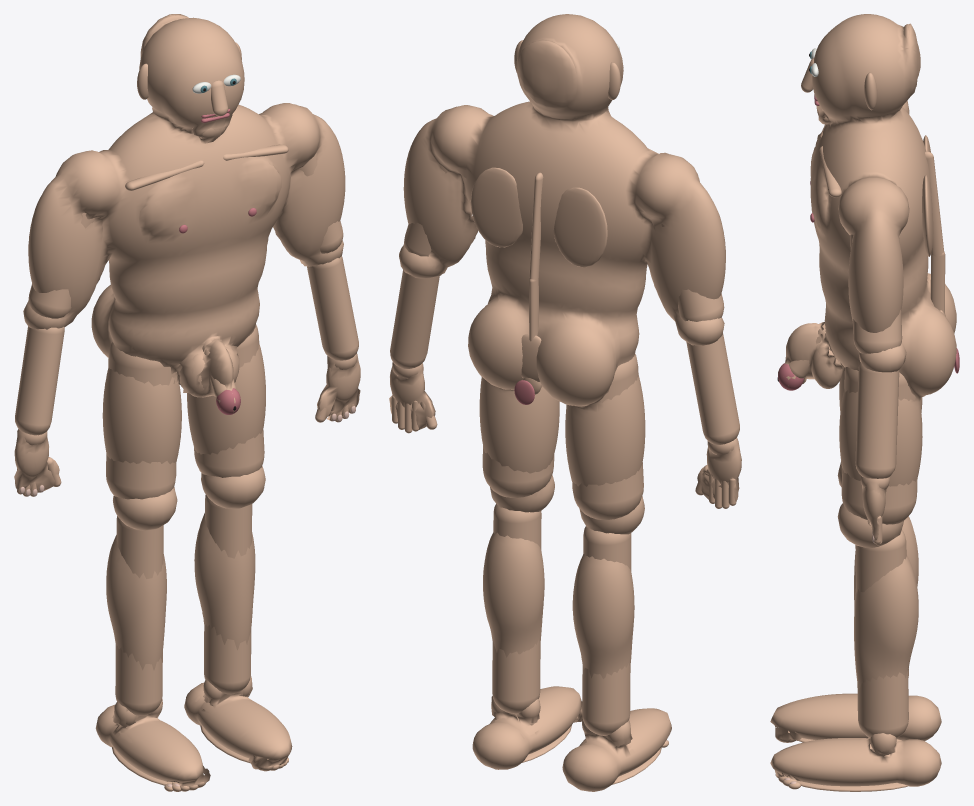
File: body-senior-maennlich-v2.glb
3 views of the same model, side by side, from view 1: azimuth 30°, elevation 25°; view 2: azimuth 150°, elevation 25°; view 3: azimuth 270°, elevation 25° (orthographic).
Visible parts, largest first — view 1: zone__visual-surface-body-senior-maennlich, zone__surface-lower-leg-left, zone__surface-lower-leg-right, zone__surface-forearm-left, zone__surface-thigh-left, zone__surface-forearm-right, zone__surface-thigh-right, zone__surface-upper-arm-left, zone__surface-upper-arm-right, zone__surface-clavicle-left; view 2: zone__visual-surface-body-senior-maennlich, zone__surface-lower-leg-right, zone__surface-lower-leg-left, zone__surface-forearm-left, zone__surface-forearm-right, zone__surface-scapula-left, zone__surface-scapula-right, zone__surface-thigh-left, zone__surface-thigh-right, zone__surface-upper-arm-left, zone__surface-thoracic-spine, zone__surface-upper-arm-right (+1 smaller); view 3: zone__visual-surface-body-senior-maennlich, zone__surface-lower-leg-right, zone__surface-forearm-right, zone__surface-thigh-right, zone__surface-upper-arm-right, zone__surface-thoracic-spine, zone__surface-lumbar-spine, zone__surface-scapula-right, zone__surface-sole-right, zone__surface-glans, zone__surface-penis, zone__surface-ear-right (+1 smaller).
Part boxes in pixels (x1,y1,x2,y2): zone__visual-surface-body-senior-maennlich: (14,14,360,786); zone__surface-lower-leg-left: (115,516,163,715); zone__surface-lower-leg-right: (204,494,252,694); zone__surface-forearm-left: (15,326,64,435); zone__surface-thigh-left: (106,342,176,499); zone__surface-forearm-right: (307,256,358,360); zone__surface-thigh-right: (194,324,264,477); zone__surface-upper-arm-left: (28,212,94,318); zone__surface-upper-arm-right: (300,153,343,253); zone__surface-clavicle-left: (125,160,204,190); zone__visual-surface-body-senior-maennlich: (389,14,741,791); zone__surface-lower-leg-right: (492,504,541,713); zone__surface-lower-leg-left: (582,526,631,735); zone__surface-forearm-left: (686,334,739,444); zone__surface-forearm-right: (390,270,439,368); zone__surface-scapula-left: (553,187,607,267); zone__surface-scapula-right: (470,167,522,247); zone__surface-thigh-left: (572,353,643,519); zone__surface-thigh-right: (482,446,554,497); zone__surface-upper-arm-left: (660,223,724,321); zone__surface-thoracic-spine: (529,172,543,285); zone__surface-upper-arm-right: (404,164,447,256); zone__visual-surface-body-senior-maennlich: (770,14,956,786); zone__surface-lower-leg-right: (855,530,908,738); zone__surface-forearm-right: (855,362,899,478); zone__surface-thigh-right: (841,367,917,524); zone__surface-upper-arm-right: (850,234,902,353); zone__surface-thoracic-spine: (925,151,944,260); zone__surface-lumbar-spine: (930,252,945,313); zone__surface-scapula-right: (922,175,933,256); zone__surface-sole-right: (797,780,908,791); zone__surface-glans: (778,363,803,390); zone__surface-penis: (789,323,825,378); zone__surface-ear-right: (864,72,877,110).
Size of the model in its own units: 0.8159 by 1.65 by 0.3819.
